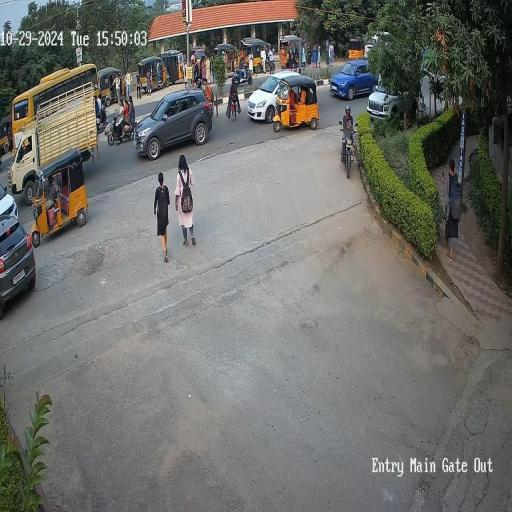helmet: (337, 103, 362, 134)
triple riding: (107, 94, 142, 142)
